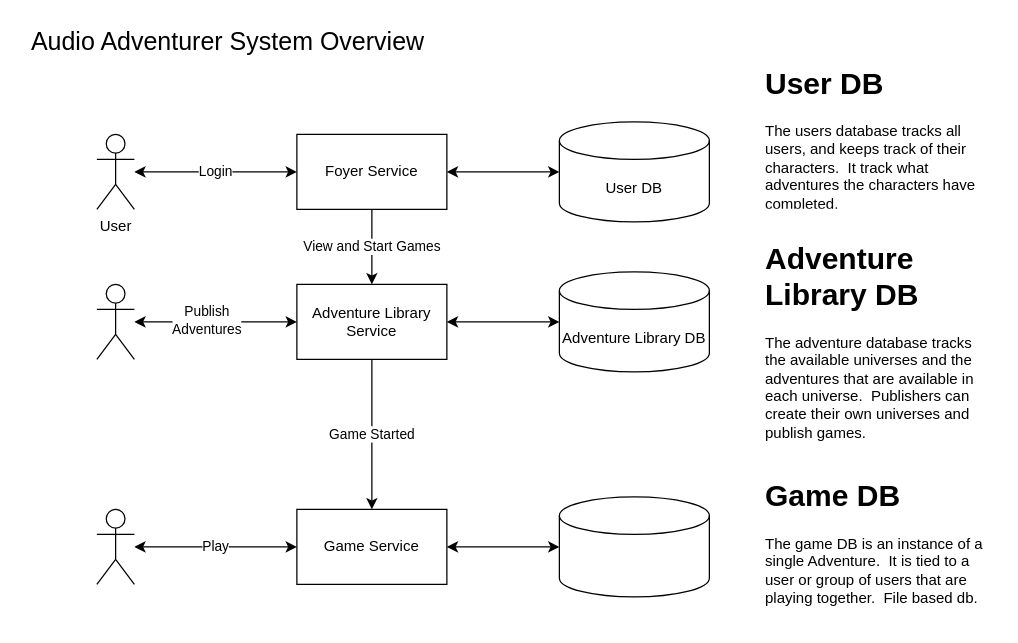
This 1018x643 diagram has some shape labels left out. Here are the shapes that lost their labels. From the top down, the centre of each, then its label:
At point 115,321: "Publisher".
At point 115,546: "Player".
At point 633,546: "Game DB".
